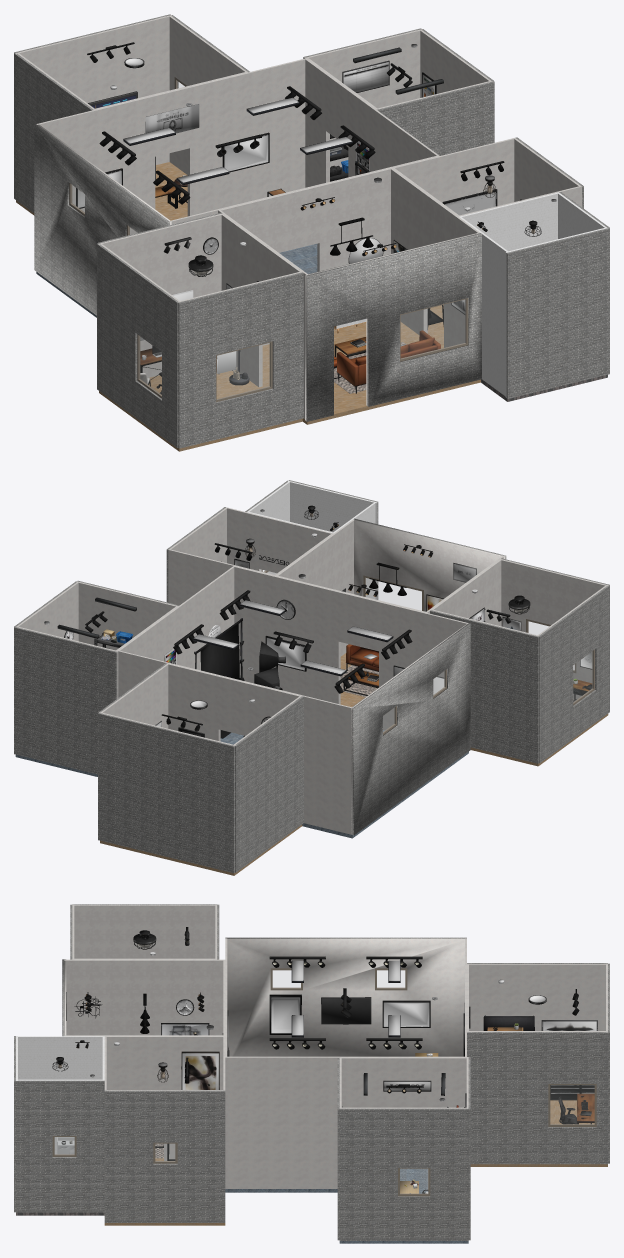
The model's file is scene_named.glb.
3 views of the same model, one above another, from view 1: azimuth 30°, elevation 25°; view 2: azimuth 150°, elevation 25°; view 3: azimuth 270°, elevation 25° (orthographic). The views are drawn at different scales.
Parts seen in each view (by area): view 1: north_wall_shooting_area/north_wall_shooting_area/geometry_0, south_wall_exterior_client_lounge/south_wall_exterior_client, south_wall_exterior_office/south_wall_exterior_office/geomet, south_wall_exterior_bathroom/south_wall_exterior_bathroom/ge, west_wall_exterior_shooting_area/west_wall_exterior_shooting, west_wall_exterior_office/west_wall_exterior_office/geometry, north_wall_client_lounge/north_wall_client_lounge/geometry_0, north_wall_editing_room/north_wall_editing_room/geometry_0, east_wall_shooting_area/east_wall_shooting_area/geometry_0, north_wall_office/north_wall_office/geometry_0, south_wall_exterior_props_storage/south_wall_exterior_props_, east_wall_client_lounge/east_wall_client_lounge/geometry_0 (+24 smaller); view 2: north_wall_exterior_editing_room/north_wall_exterior_editing, west_wall_exterior_shooting_area/west_wall_exterior_shooting, south_wall_shooting_area/south_wall_shooting_area/geometry_0, north_wall_exterior_props_storage/north_wall_exterior_props_, north_wall_exterior_office/north_wall_exterior_office/geomet, west_wall_exterior_editing_room/west_wall_exterior_editing_r, west_wall_exterior_office/west_wall_exterior_office/geometry, north_wall_shooting_area/north_wall_shooting_area/geometry_0, south_wall_client_lounge/south_wall_client_lounge/geometry_0, south_wall_editing_room/south_wall_editing_room/geometry_0, east_wall_shooting_area/east_wall_shooting_area/geometry_0, south_wall_office/south_wall_office/geometry_0 (+17 smaller); view 3: west_wall_shooting_area/west_wall_shooting_area/geometry_0, east_wall_exterior_editing_room/east_wall_exterior_editing_r, east_wall_exterior_props_storage/east_wall_exterior_props_st, east_wall_exterior_dressing_room/east_wall_exterior_dressing, east_wall_shooting_area/east_wall_shooting_area/geometry_0, east_wall_exterior_bathroom/east_wall_exterior_bathroom/geom, west_wall_client_lounge/west_wall_client_lounge/geometry_0, west_wall_office/west_wall_office/geometry_0, west_wall_editing_room/west_wall_editing_room/geometry_0, west_wall_props_storage/west_wall_props_storage/geometry_0, west_wall_dressing_room/west_wall_dressing_room/geometry_0, west_wall_bathroom/west_wall_bathroom/geometry_0 (+16 smaller).
Part boxes in pixels (box(x1,y1,x2,y2)): north_wall_shooting_area/north_wall_shooting_area/geometry_0: box(36, 58, 306, 234); south_wall_exterior_client_lounge/south_wall_exterior_client: box(306, 233, 481, 421); south_wall_exterior_office/south_wall_exterior_office/geomet: box(178, 272, 303, 448); south_wall_exterior_bathroom/south_wall_exterior_bathroom/ge: box(506, 228, 609, 398); west_wall_exterior_shooting_area/west_wall_exterior_shooting: box(34, 124, 169, 315); west_wall_exterior_office/west_wall_exterior_office/geometry: box(97, 243, 178, 447); north_wall_client_lounge/north_wall_client_lounge/geometry_0: box(220, 168, 390, 345); north_wall_editing_room/north_wall_editing_room/geometry_0: box(15, 15, 171, 164); east_wall_shooting_area/east_wall_shooting_area/geometry_0: box(305, 59, 438, 187); north_wall_office/north_wall_office/geometry_0: box(99, 213, 222, 377); south_wall_exterior_props_storage/south_wall_exterior_props_: box(377, 81, 494, 155); east_wall_client_lounge/east_wall_client_lounge/geometry_0: box(390, 168, 480, 347); north_wall_exterior_editing_room/north_wall_exterior_editing: box(98, 713, 234, 873); west_wall_exterior_shooting_area/west_wall_exterior_shooting: box(352, 623, 470, 835); south_wall_shooting_area/south_wall_shooting_area/geometry_0: box(233, 566, 468, 730); north_wall_exterior_props_storage/north_wall_exterior_props_: box(14, 627, 117, 774); north_wall_exterior_office/north_wall_exterior_office/geomet: box(430, 610, 539, 763); west_wall_exterior_editing_room/west_wall_exterior_editing_r: box(235, 696, 303, 872); west_wall_exterior_office/west_wall_exterior_office/geometry: box(538, 585, 609, 763); north_wall_shooting_area/north_wall_shooting_area/geometry_0: box(118, 650, 352, 834); south_wall_client_lounge/south_wall_client_lounge/geometry_0: box(354, 520, 505, 611); south_wall_editing_room/south_wall_editing_room/geometry_0: box(167, 663, 301, 741); east_wall_shooting_area/east_wall_shooting_area/geometry_0: box(118, 566, 234, 696); south_wall_office/south_wall_office/geometry_0: box(501, 559, 608, 700); west_wall_shooting_area/west_wall_shooting_area/geometry_0: box(227, 938, 464, 1056); east_wall_exterior_editing_room/east_wall_exterior_editing_r: box(467, 1032, 607, 1164); east_wall_exterior_props_storage/east_wall_exterior_props_st: box(339, 1108, 468, 1240); east_wall_exterior_dressing_room/east_wall_exterior_dressing: box(104, 1090, 225, 1222); east_wall_shooting_area/east_wall_shooting_area/geometry_0: box(225, 1056, 464, 1188); east_wall_exterior_bathroom/east_wall_exterior_bathroom/geom: box(16, 1080, 104, 1212); west_wall_client_lounge/west_wall_client_lounge/geometry_0: box(64, 959, 225, 1035); west_wall_office/west_wall_office/geometry_0: box(74, 905, 215, 1035); west_wall_editing_room/west_wall_editing_room/geometry_0: box(469, 964, 605, 1030); west_wall_props_storage/west_wall_props_storage/geometry_0: box(341, 1057, 468, 1189); west_wall_dressing_room/west_wall_dressing_room/geometry_0: box(106, 1036, 223, 1160); west_wall_bathroom/west_wall_bathroom/geometry_0: box(18, 1036, 104, 1154).
Bounding box in the file's own units: 12.05 × 3.7 × 14.8.
237 materials, 220 textured.
